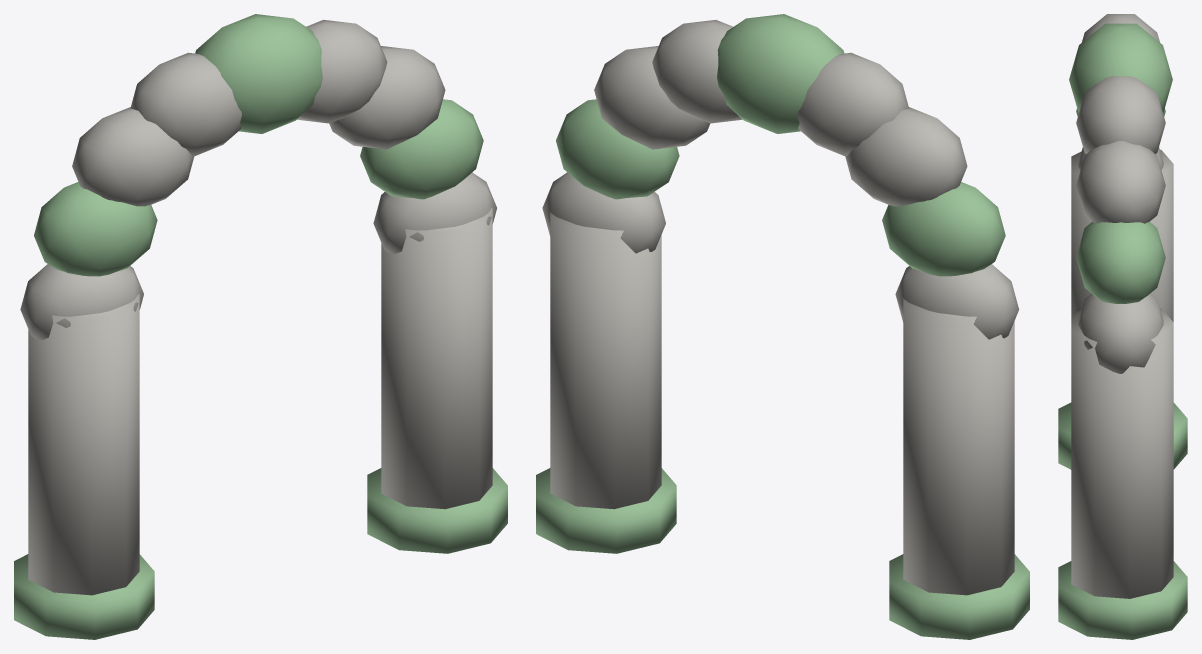
File: ruin_arch.glb
3 views of the same model, side by side, from view 1: azimuth 30°, elevation 25°; view 2: azimuth 150°, elevation 25°; view 3: azimuth 270°, elevation 25° (orthographic). The views are drawn at different scales.
Parts seen in each view (by area): view 1: Cylinder.002, Cylinder, Icosphere.004, Icosphere.006, Icosphere.007, Icosphere.005, Icosphere.001, Cylinder.003, Cylinder.001, Icosphere.002, Icosphere.003, Icosphere.008 (+1 smaller); view 2: Cylinder, Cylinder.002, Icosphere.004, Icosphere.006, Icosphere.007, Icosphere.005, Icosphere.001, Cylinder.003, Cylinder.001, Icosphere.002, Icosphere.003, Icosphere.008 (+1 smaller); view 3: Cylinder.002, Icosphere.001, Icosphere.002, Cylinder.003, Icosphere.004, Icosphere.003, Icosphere, Cylinder, Cylinder.001, Icosphere.005.
Boxes of the visible parts, <box> form: Cylinder.002: <box>381,208,492,509</box>; Cylinder: <box>28,294,139,595</box>; Icosphere.004: <box>195,14,322,133</box>; Icosphere.006: <box>72,107,193,206</box>; Icosphere.007: <box>34,182,157,276</box>; Icosphere.005: <box>130,52,241,156</box>; Icosphere.001: <box>360,99,483,199</box>; Cylinder.003: <box>367,468,507,553</box>; Cylinder.001: <box>14,554,154,639</box>; Icosphere.002: <box>329,46,445,149</box>; Icosphere.003: <box>297,19,387,123</box>; Icosphere.008: <box>20,264,143,339</box>; Cylinder: <box>903,298,1014,595</box>; Cylinder.002: <box>550,212,661,509</box>; Icosphere.004: <box>717,14,844,133</box>; Icosphere.006: <box>845,107,967,206</box>; Icosphere.007: <box>882,182,1005,276</box>; Icosphere.005: <box>797,52,908,156</box>; Icosphere.001: <box>556,99,679,199</box>; Cylinder.003: <box>536,468,676,553</box>; Cylinder.001: <box>889,554,1029,639</box>; Icosphere.002: <box>594,46,710,149</box>; Icosphere.003: <box>652,20,742,123</box>; Icosphere.008: <box>895,264,1019,339</box>; Cylinder.002: <box>1071,308,1173,598</box>; Icosphere.001: <box>1076,221,1165,303</box>; Icosphere.002: <box>1076,141,1165,223</box>; Cylinder.003: <box>1058,561,1187,639</box>; Icosphere.004: <box>1069,23,1172,113</box>; Icosphere.003: <box>1076,76,1165,153</box>; Icosphere: <box>1078,293,1163,373</box>; Cylinder: <box>1071,149,1173,321</box>; Cylinder.001: <box>1058,402,1187,469</box>; Icosphere.005: <box>1082,14,1159,42</box>.
Bounding box in the file's own units: 3.65 × 4 × 0.9311.
